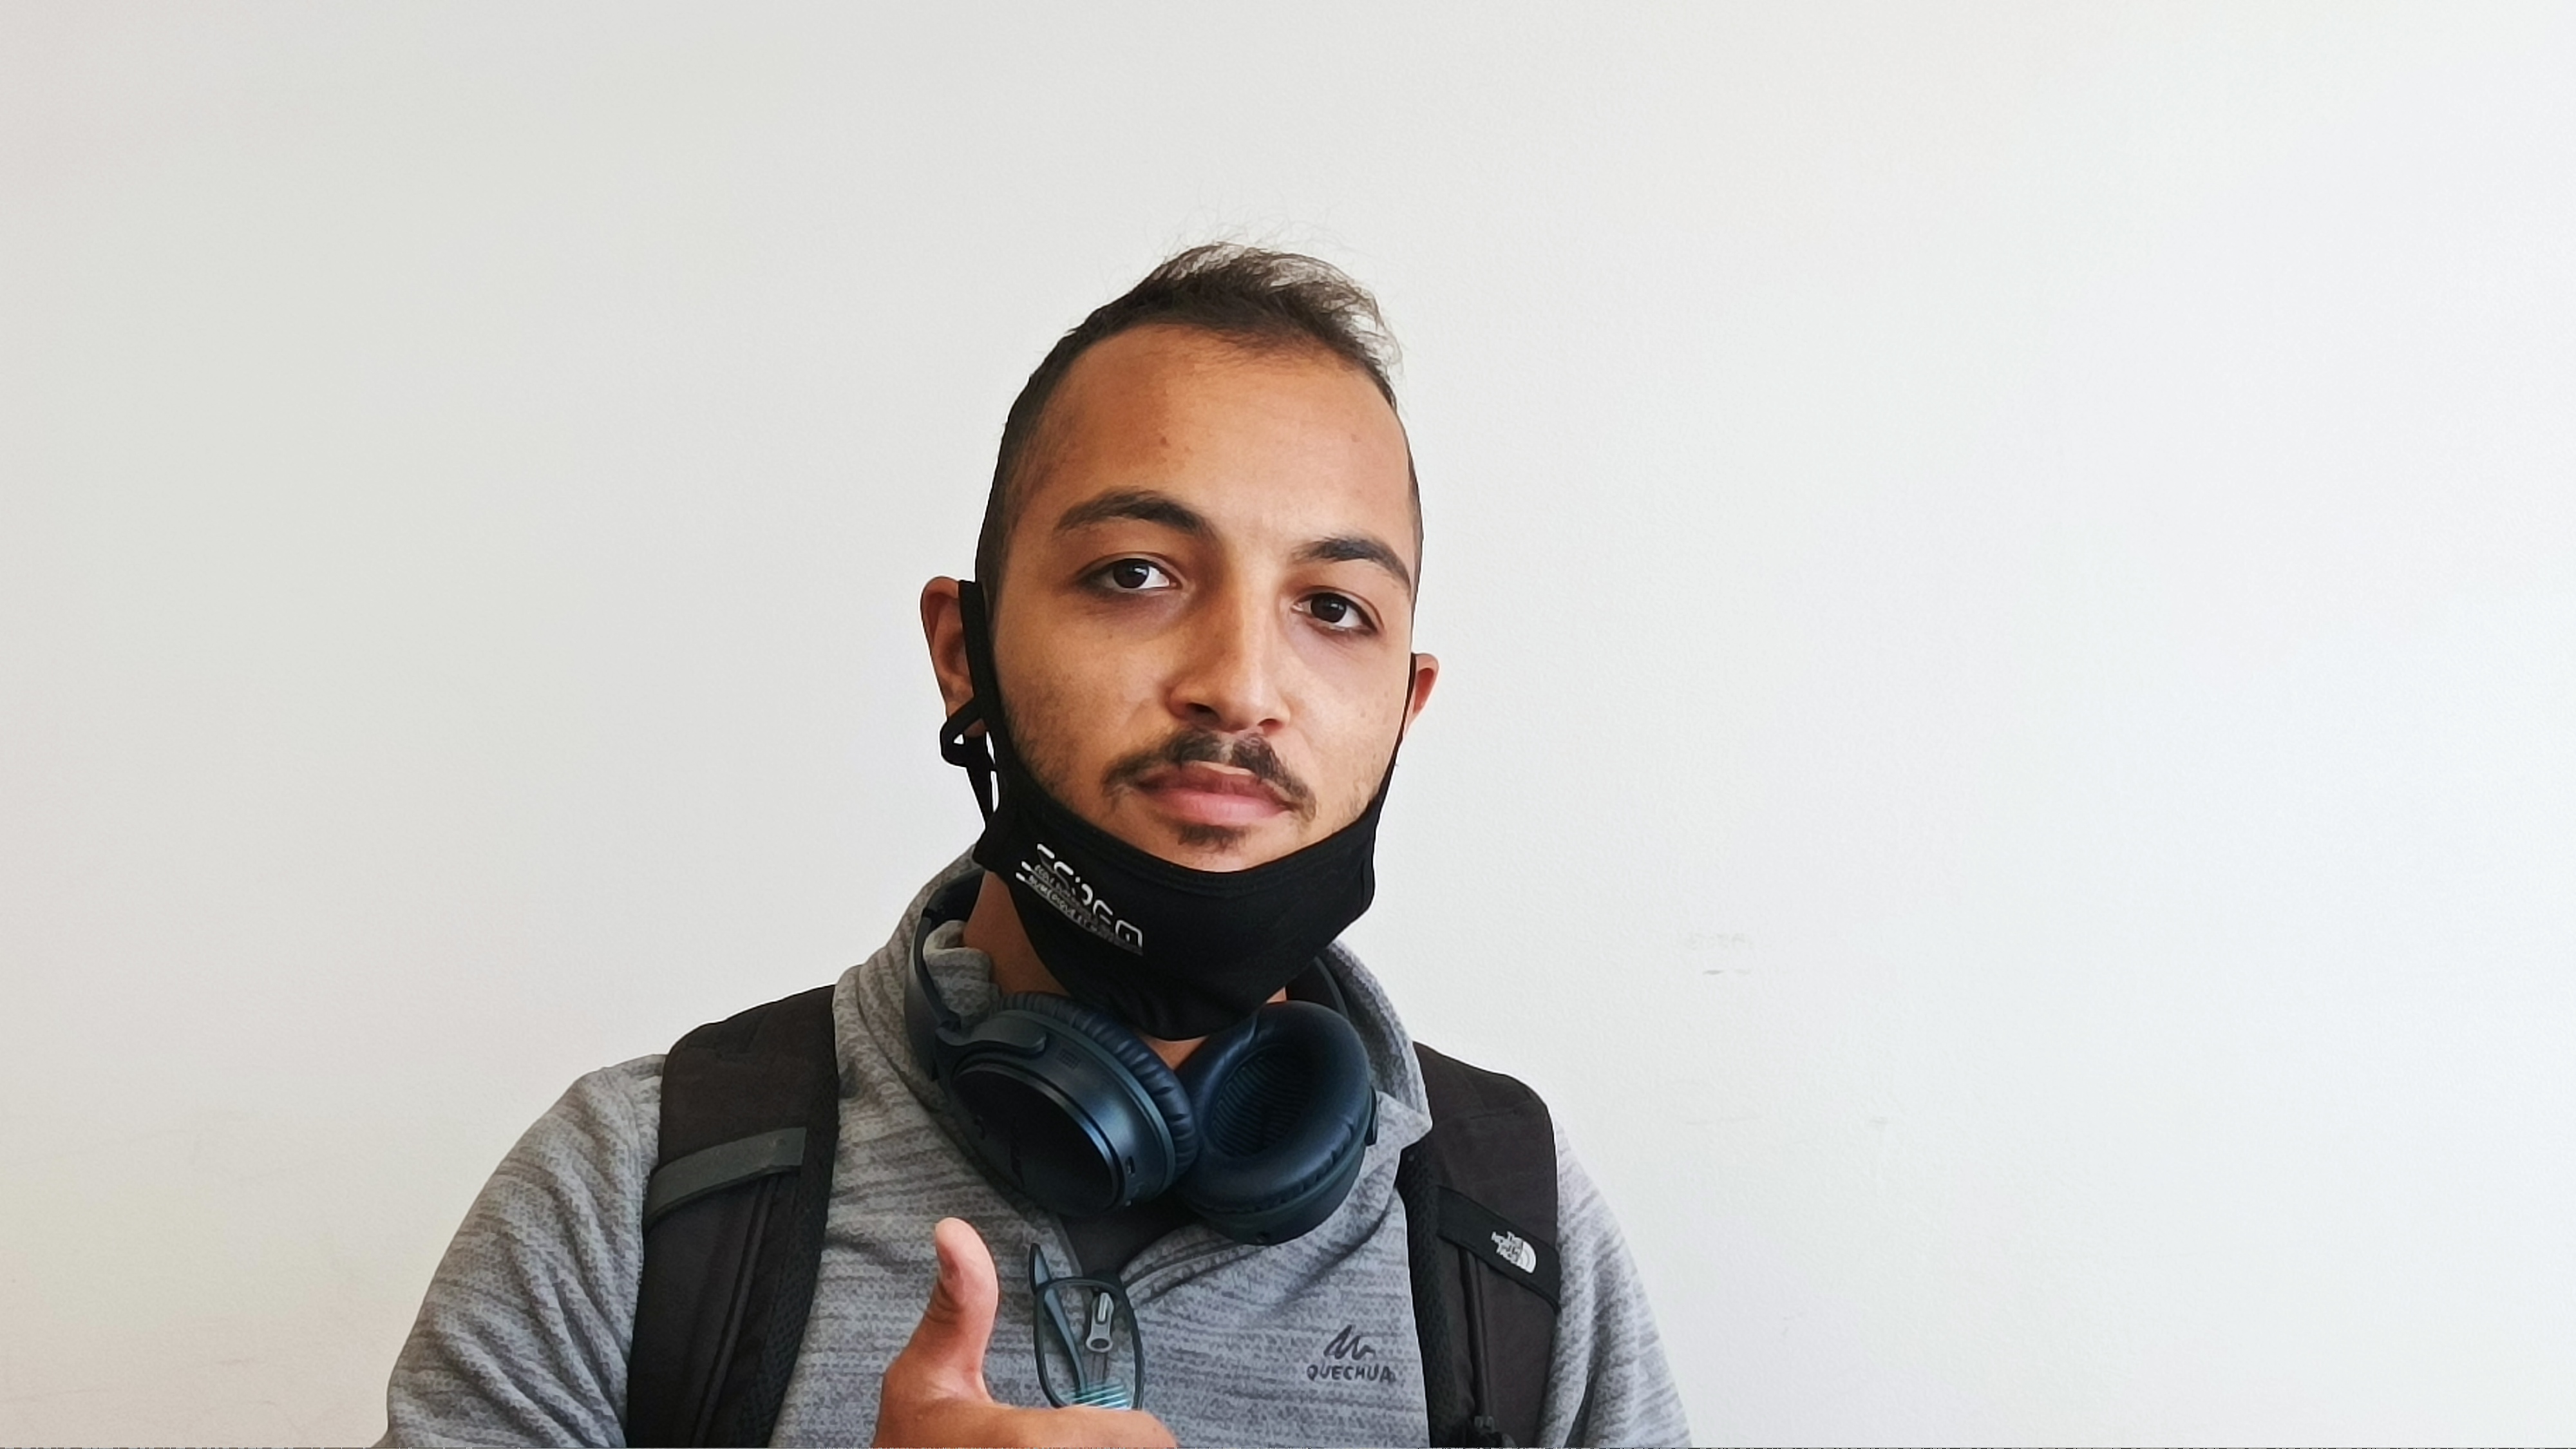with_incorrect_mask: (1010, 425, 1422, 920)
